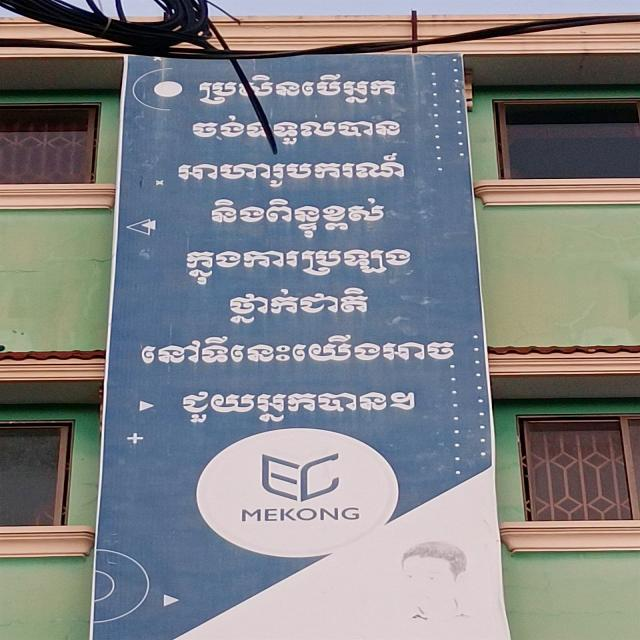Yolov11kh: (134, 332, 455, 370), (183, 243, 415, 288), (175, 386, 424, 427), (204, 193, 395, 242), (176, 150, 413, 188), (193, 70, 405, 107), (187, 113, 405, 148), (221, 286, 374, 326)
